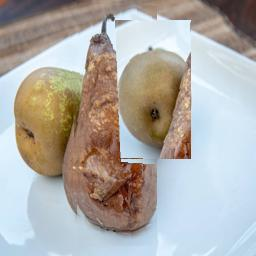Pear Rotten: (69, 0, 157, 246), (116, 21, 192, 160)
